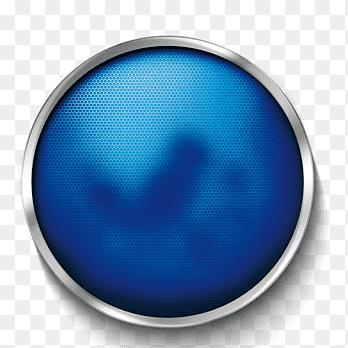blue_circle: (16, 30, 325, 336)
